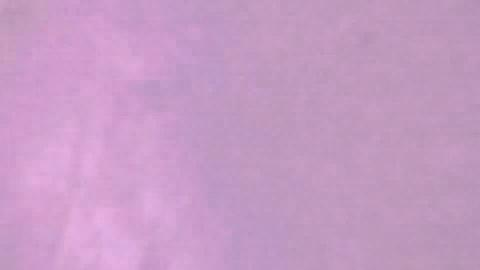tomato: (137, 145, 386, 268), (386, 152, 478, 268)
